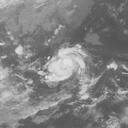cyclone: (44, 43, 89, 92)
